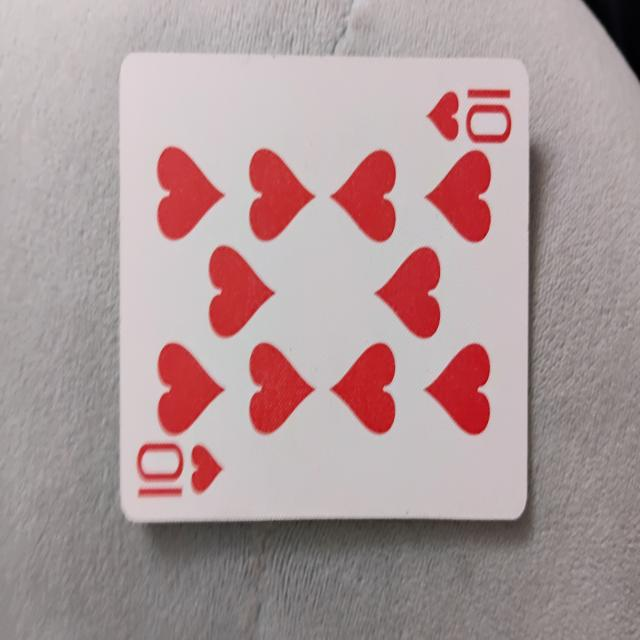10H: (120, 58, 530, 530)
